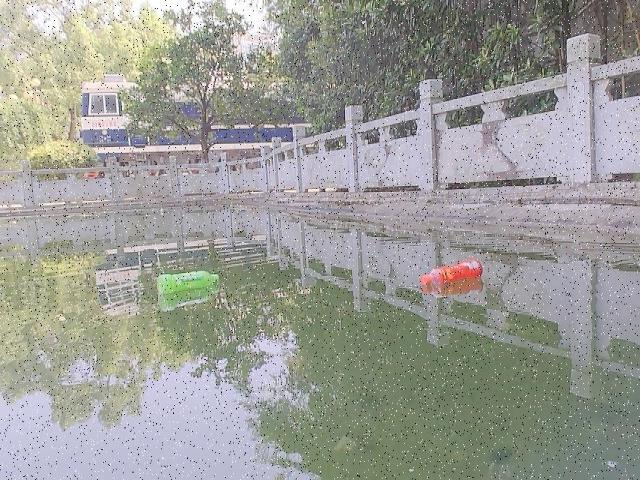Bottle: (418, 256, 492, 294), (148, 269, 228, 303)
